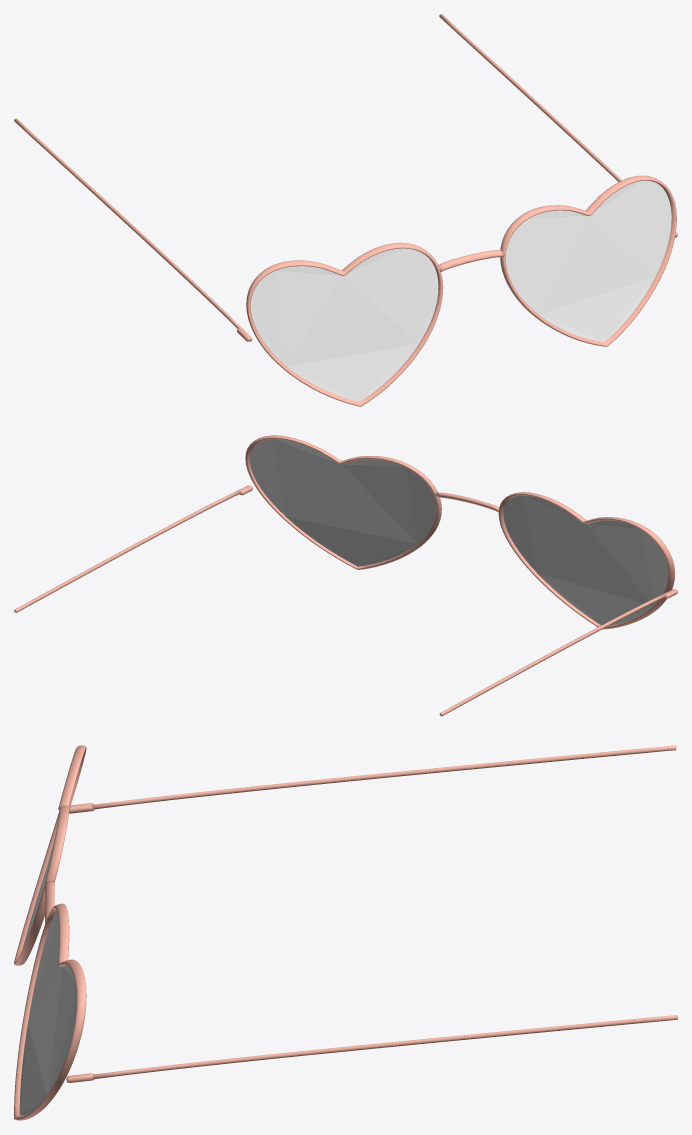
Rendered from glasses-6.glb.
3 renders of one model, top to bottom at view 1: azimuth 30°, elevation 25°; view 2: azimuth 150°, elevation 25°; view 3: azimuth 270°, elevation 25°, orthographic. The views are drawn at different scales.
Visible parts, largest first — view 1: Circle.002_3, Object_4, Object_12; view 2: Circle.002_3, Object_4, Object_12; view 3: Circle.002_3, Object_4, Object_12.
Part boxes in pixels (bbox=[...]): Circle.002_3: bbox=[250, 180, 671, 401]; Object_4: bbox=[246, 175, 676, 406]; Object_12: bbox=[14, 14, 621, 328]; Circle.002_3: bbox=[249, 439, 667, 625]; Object_4: bbox=[245, 435, 675, 629]; Object_12: bbox=[14, 490, 665, 716]; Circle.002_3: bbox=[19, 838, 76, 1115]; Object_4: bbox=[14, 745, 86, 1120]; Object_12: bbox=[89, 745, 677, 1079].
Size of the model in its own units: 1.93 by 0.5917 by 1.98.
